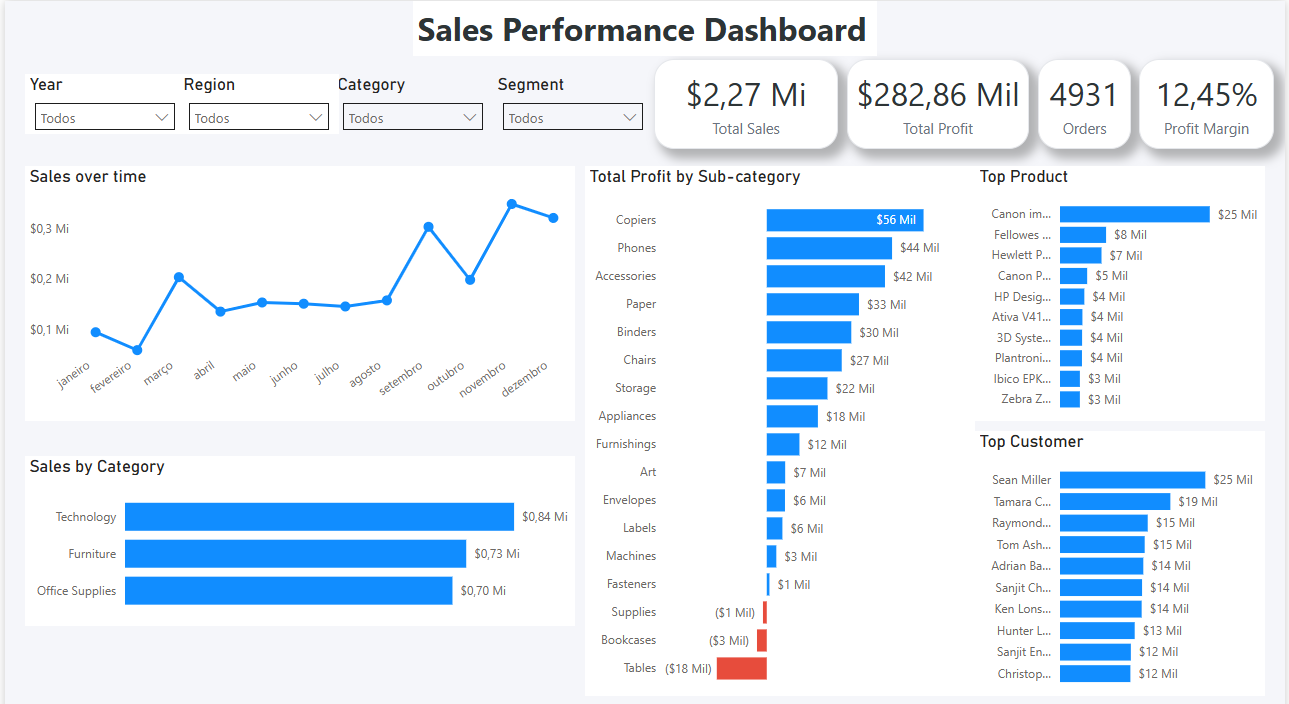

This screenshot's page, from the dashboard's own definition file:
{"tool":"powerbi","page":{"name":"Página 1","canvas":[1280,720],"ordinal":0},"visuals":[{"type":"card","title":"Total Sales","fields":{"Values":["Medidas.Total Sales"]},"box":[649,58,184,90],"z":0},{"type":"card","title":"Total Profit","fields":{"Values":["Medidas.Total Profit"]},"box":[842,58,182,90],"z":1000},{"type":"card","title":"Orders","fields":{"Values":["Medidas.Total Orders"]},"box":[1033,58,93,90],"z":2000},{"type":"card","title":"Profit Margin","fields":{"Values":["Medidas.Profit Margin"]},"box":[1134,58,135,90],"z":3000},{"type":"lineChart","title":"Sales over time","fields":{"Category":["superstore_project superstore_clean.order_date.Variation.Hierarquia de datas.Ano","superstore_project superstore_clean.order_date.Variation.Hierarquia de datas.Trimestre","superstore_project superstore_clean.order_date.Variation.Hierarquia de datas.Mês","superstore_project superstore_clean.order_date.Variation.Hierarquia de datas.Dia"],"Y":["Medidas.Total Sales"]},"box":[20,165.5,550,254.5],"z":4000},{"type":"barChart","title":"Sales by Category","fields":{"Category":["superstore_project superstore_clean.category"],"Y":["Medidas.Total Sales"]},"box":[20,454.5,550,170],"z":5000},{"type":"barChart","title":"Total Profit by Sub-category","fields":{"Category":["superstore_project superstore_clean.sub_category"],"Y":["Medidas.Total Profit"]},"box":[580,165.5,390,530],"z":6000},{"type":"barChart","title":"Top Product","fields":{"Category":["superstore_project superstore_clean.product_name"],"Y":["Medidas.Total Profit"]},"box":[970,165.5,290,254.5],"z":7000},{"type":"barChart","title":"Top Customer","fields":{"Category":["superstore_project superstore_clean.customer_name"],"Y":["Medidas.Total Sales"]},"box":[970,430,290,265.5],"z":8000},{"type":"slicer","title":"Category","fields":{"Values":["superstore_project superstore_clean.category"]},"box":[328.2,72.7,160,60],"z":9000},{"type":"slicer","title":"Year","fields":{"Values":["superstore_project superstore_clean.order_date.Variation.Hierarquia de datas.Ano"]},"box":[20,72.9,160,60],"z":10000},{"type":"slicer","title":"Region","fields":{"Values":["superstore_project superstore_clean.region"]},"box":[173.6,72.7,160,60],"z":11000},{"type":"textbox","box":[408.2,0,463.6,55.5],"z":12000},{"type":"slicer","title":"Segment","fields":{"Values":["superstore_project superstore_clean.segment"]},"box":[488.2,72.7,160,60],"z":13000}]}

Visuals, with their boxes in screenshot pixels (x1, y1, x2, y2), scaled from the page's 1280x720 canvas onto the 1289x704 screenshot:
"Total Sales" card: [654, 57, 839, 145]
"Total Profit" card: [848, 57, 1031, 145]
"Orders" card: [1040, 57, 1134, 145]
"Profit Margin" card: [1142, 57, 1278, 145]
"Sales over time" lineChart: [20, 162, 574, 411]
"Sales by Category" barChart: [20, 444, 574, 611]
"Total Profit by Sub-category" barChart: [584, 162, 977, 680]
"Top Product" barChart: [977, 162, 1269, 411]
"Top Customer" barChart: [977, 420, 1269, 680]
"Category" slicer: [331, 71, 492, 130]
"Year" slicer: [20, 71, 181, 130]
"Region" slicer: [175, 71, 336, 130]
textbox: [411, 0, 878, 54]
"Segment" slicer: [492, 71, 653, 130]
